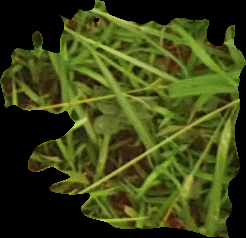grass: (1, 1, 245, 237)
